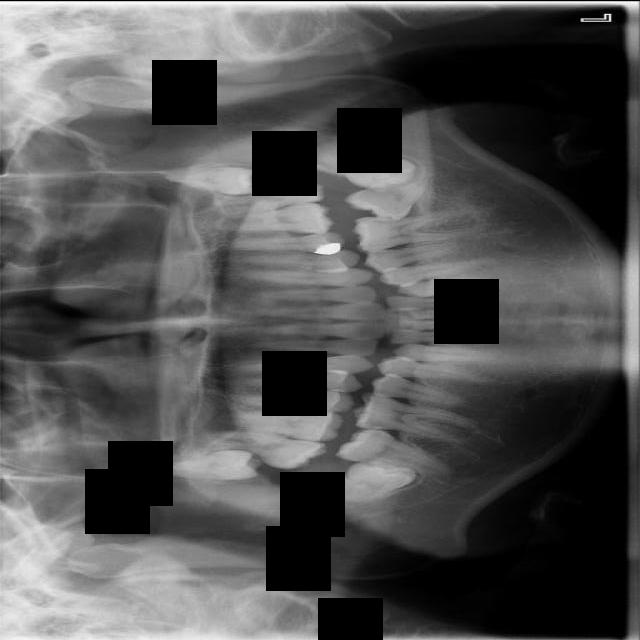3M ESPE Implant: (167, 448, 264, 482)
52: (299, 229, 347, 258)
73: (566, 36, 579, 44)
BioHorizons Implant: (204, 168, 327, 223)
BioLife Implant: (165, 165, 258, 195)
Biomet 3i Implant: (322, 145, 419, 195)
Blue Sky Bio Implant: (342, 169, 439, 231)
Caries: (198, 421, 329, 476)
Implant: (334, 420, 457, 481)
Keystone Dental Implant: (335, 453, 421, 505)
